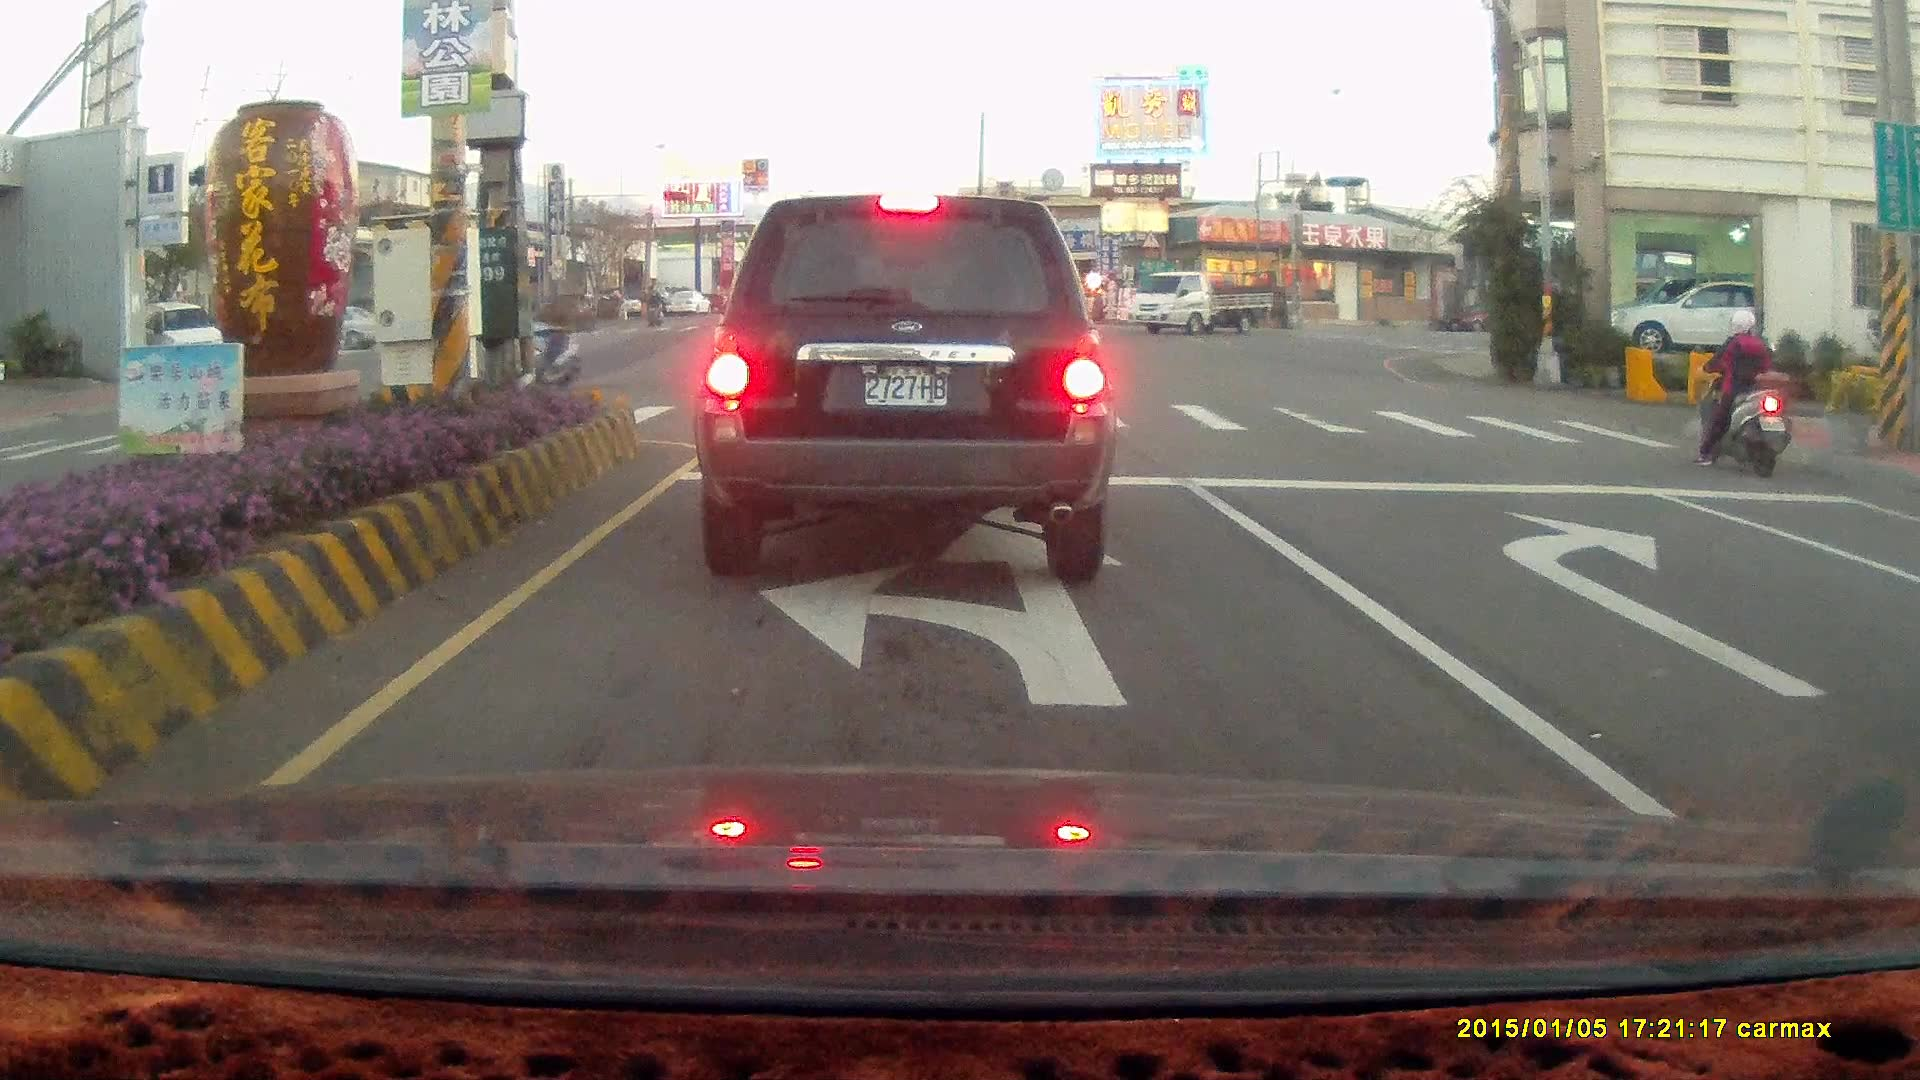rider: (1701, 307, 1797, 475), (506, 281, 582, 388), (571, 292, 595, 332), (647, 289, 668, 326)
vehicle: (691, 191, 1116, 582), (1602, 276, 1805, 357), (937, 263, 1085, 349), (1616, 278, 1755, 353), (1135, 267, 1279, 339), (119, 300, 233, 382), (1896, 493, 1920, 836), (1883, 528, 1920, 690)
